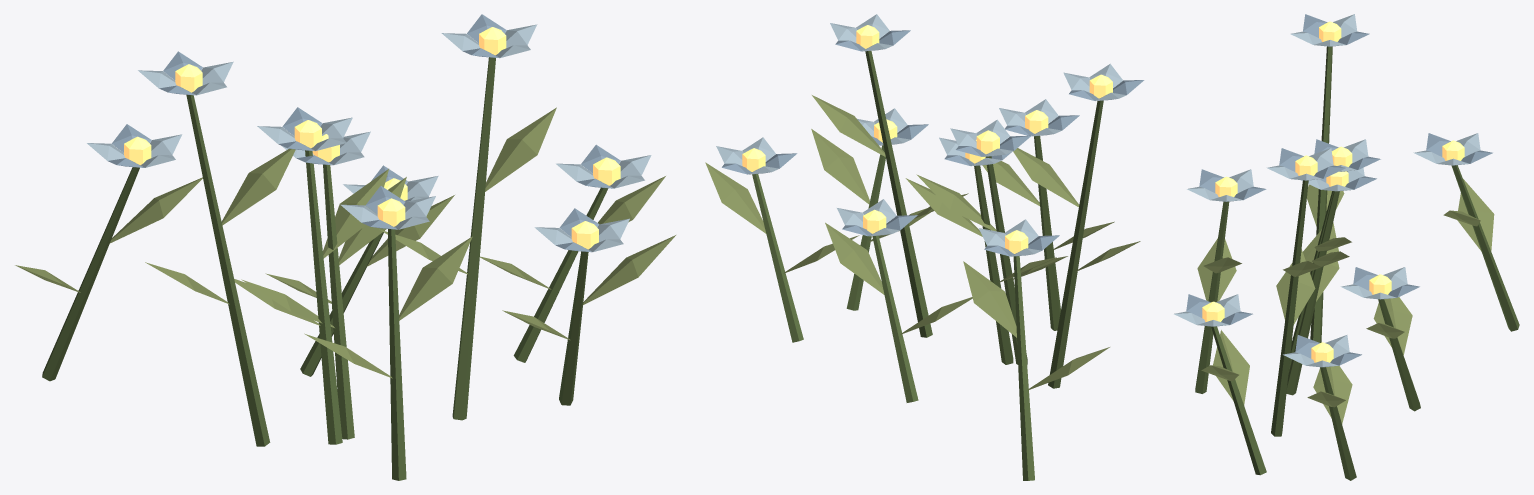
File: NAT_V3_Flower_Blue.glb
The picture shows the model from 3 angles, left to right: view 1: azimuth 30°, elevation 25°; view 2: azimuth 150°, elevation 25°; view 3: azimuth 270°, elevation 25°; orthographic projection. The views are drawn at different scales.
Visible parts, largest first — view 1: NAT_V3_Flower_Blue; view 2: NAT_V3_Flower_Blue; view 3: NAT_V3_Flower_Blue.
Boxes of the visible parts, <box> form: NAT_V3_Flower_Blue: <box>15,14,675,480</box>; NAT_V3_Flower_Blue: <box>705,14,1144,480</box>; NAT_V3_Flower_Blue: <box>1174,14,1519,480</box>.
Size of the model in its own units: 0.8589 by 0.5677 by 0.5578.
